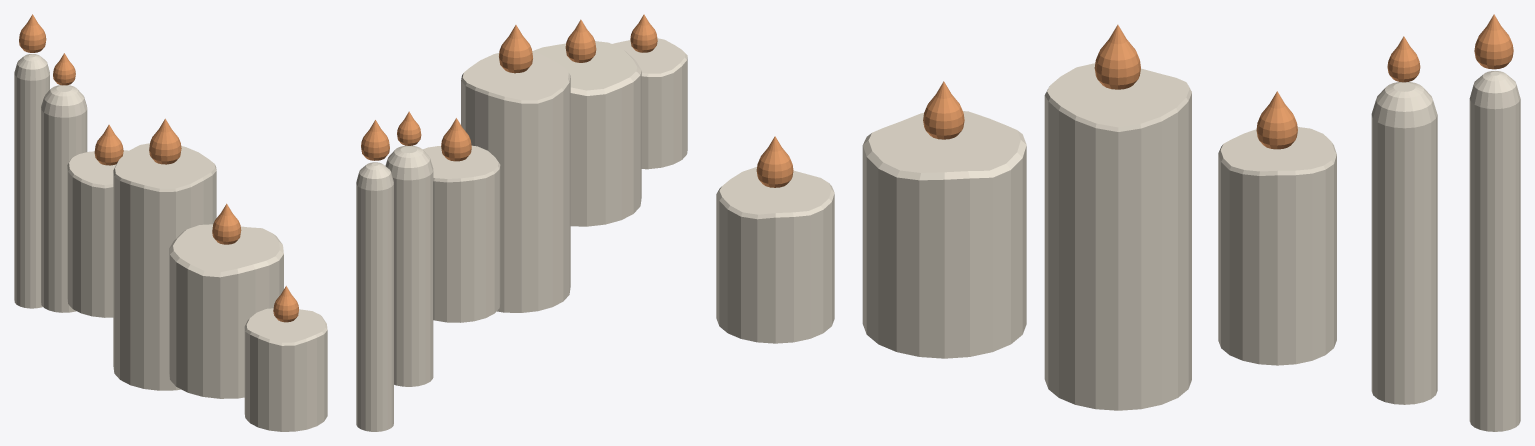
Rendered from BPW_Candles.fbx.
3 views of the same model, side by side, from view 1: azimuth 30°, elevation 25°; view 2: azimuth 150°, elevation 25°; view 3: azimuth 270°, elevation 25° (orthographic). The views are drawn at different scales.
Visible parts, largest first — view 1: Cylinder, Cylinder.003, Cylinder.004, Cylinder.001, Cylinder.002, Cylinder.005, Cone, Cone.001, Cone.003, Cone.005, Cone.002, Cone.004; view 2: Cylinder, Cylinder.003, Cylinder.001, Cylinder.005, Cylinder.002, Cylinder.004, Cone, Cone.003, Cone.001, Cone.005, Cone.002, Cone.004; view 3: Cylinder, Cylinder.003, Cylinder.001, Cylinder.002, Cylinder.004, Cylinder.005, Cone, Cone.001, Cone.003, Cone.005, Cone.002, Cone.004.
Part boxes in pixels (box(x1,y1,x2,y2)): Cylinder: box(113, 143, 216, 390); Cylinder.003: box(169, 224, 283, 398); Cylinder.004: box(244, 308, 327, 431); Cylinder.001: box(67, 150, 128, 317); Cylinder.002: box(41, 85, 87, 312); Cylinder.005: box(14, 54, 49, 308); Cone: box(149, 118, 181, 164); Cone.001: box(212, 203, 241, 244); Cone.003: box(94, 124, 123, 165); Cone.005: box(19, 14, 46, 52); Cone.002: box(273, 286, 298, 322); Cone.004: box(53, 53, 75, 85); Cylinder: box(461, 52, 570, 312); Cylinder.003: box(532, 41, 641, 226); Cylinder.001: box(423, 145, 500, 322); Cylinder.005: box(356, 162, 393, 431); Cylinder.002: box(385, 145, 433, 386); Cylinder.004: box(612, 38, 687, 169); Cone: box(499, 25, 532, 73); Cone.003: box(441, 118, 471, 161); Cone.001: box(565, 19, 596, 62); Cone.005: box(361, 120, 389, 160); Cone.002: box(630, 14, 657, 52); Cone.004: box(397, 111, 421, 145); Cylinder: box(1044, 63, 1191, 410); Cylinder.003: box(862, 111, 1026, 358); Cylinder.001: box(1218, 127, 1336, 365); Cylinder.002: box(1371, 82, 1437, 404); Cylinder.004: box(716, 167, 834, 343); Cylinder.005: box(1469, 71, 1520, 431); Cone: box(1094, 24, 1140, 89); Cone.001: box(923, 81, 964, 139); Cone.003: box(1256, 91, 1297, 149); Cone.005: box(1474, 14, 1513, 69); Cone.002: box(756, 136, 793, 187); Cone.004: box(1387, 36, 1420, 82).
Size of the model in its own units: 223 by 610 by 1091.
